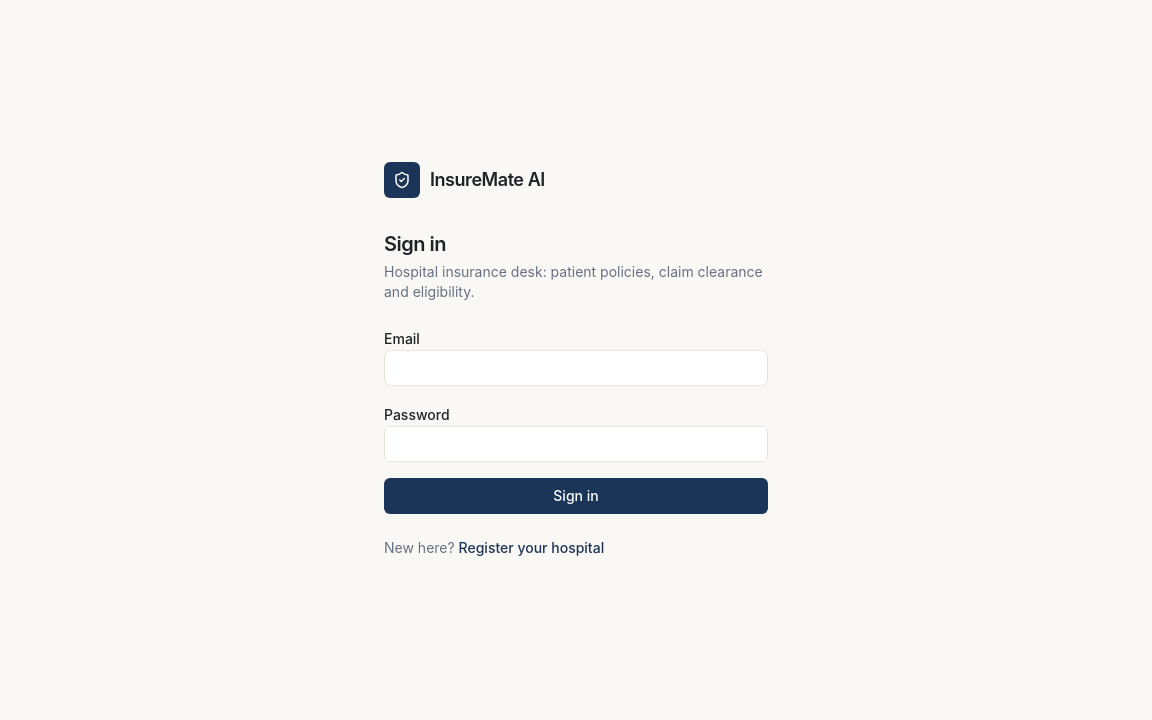
Test: AuthPage › logs in and navigates to the app shell with all nav items
The image size is (1152, 720).
Type "a@example.com" into the field labelled "Email" at (576, 368), box [384,350,768,386]
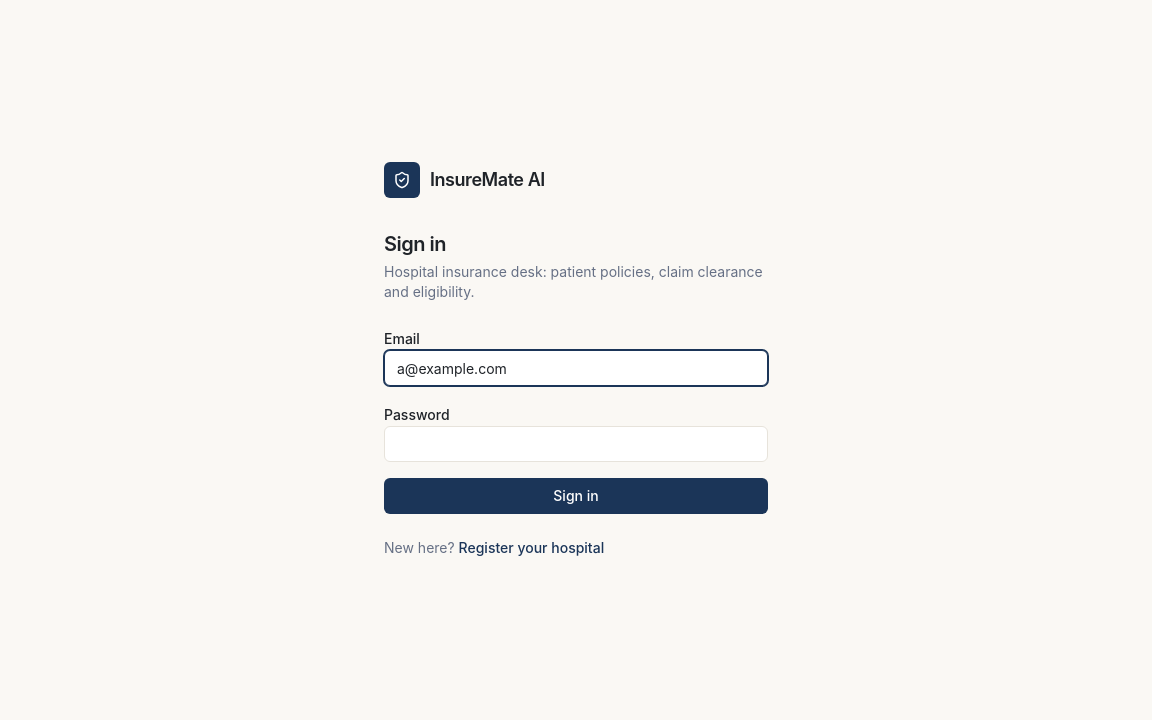
Type "whatever1" into the password field labelled "Password" at (576, 444), box [384,426,768,462]
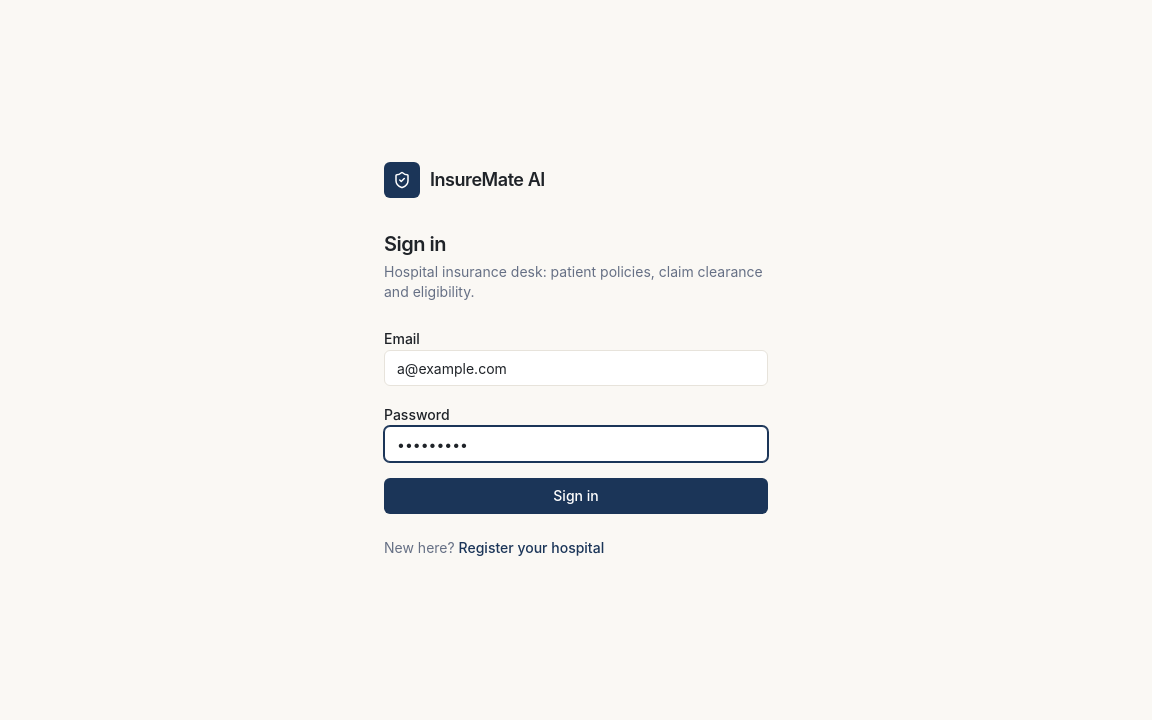
Click the button "Sign in" at (576, 496), box [384,478,768,514]
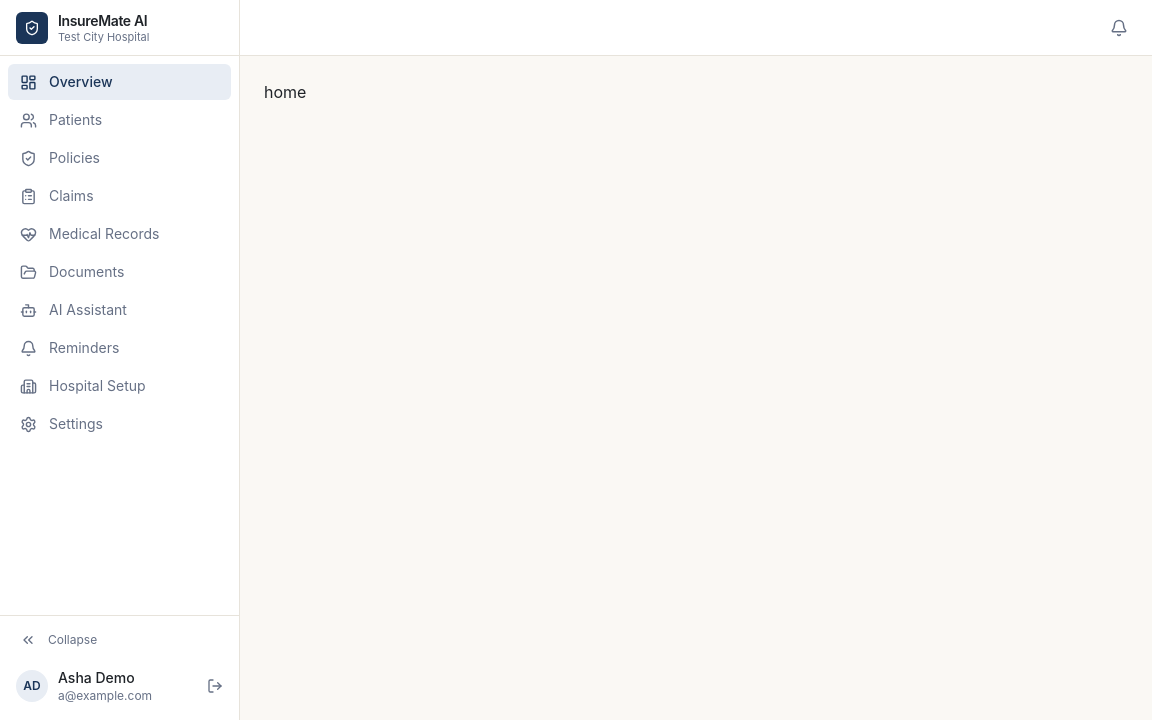
Check: the text "home" is shown, box [264,82,306,102]
Check: the link "Overview" is shown, box [8,64,231,100]
Check: the link "Patients" is shown, box [20,111,102,128]
